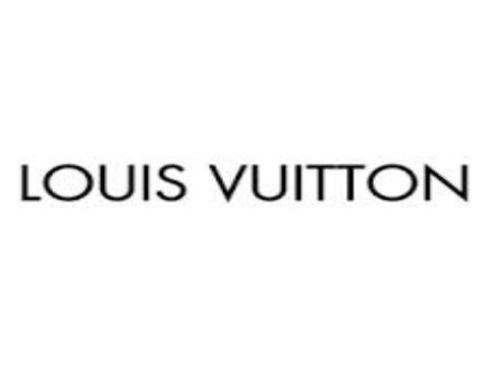LOUIS-VUITTON: (10, 157, 477, 219)
